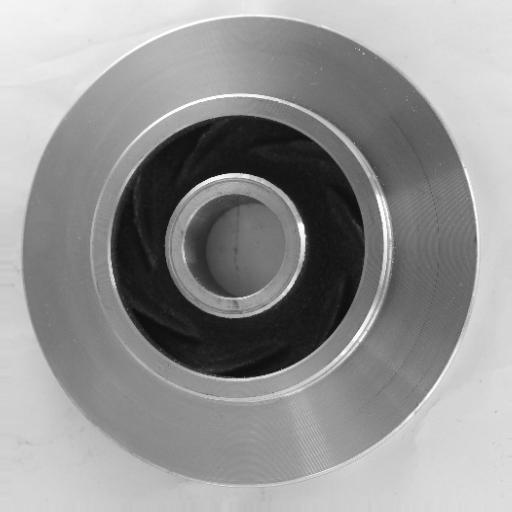polished_casting: (18, 14, 481, 486)
